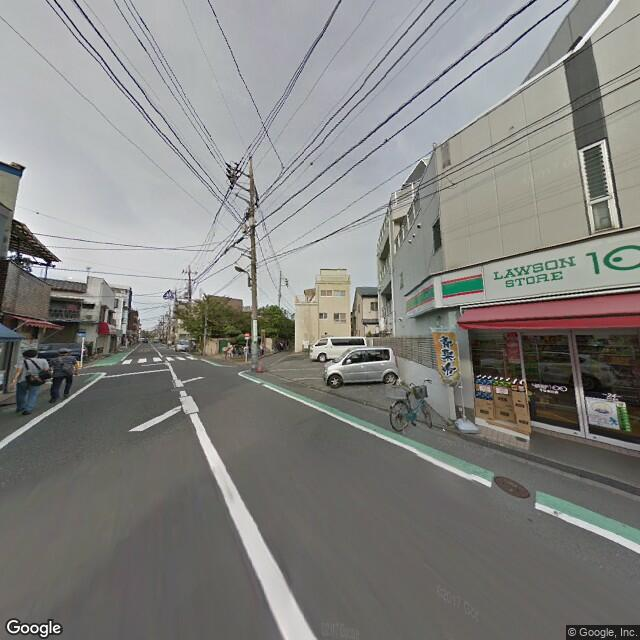lawson: (404, 227, 639, 320)
